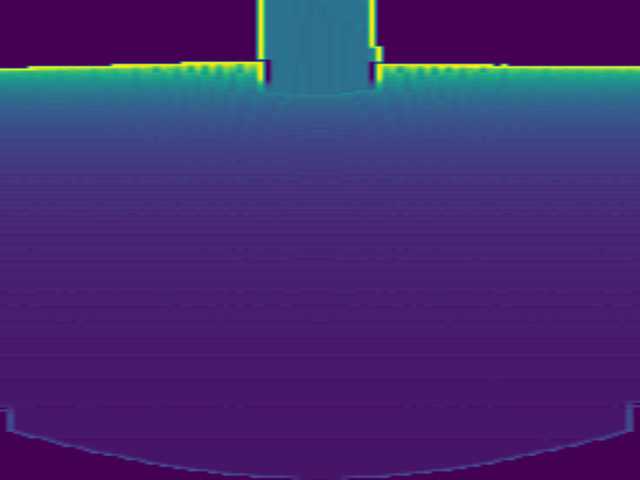cylinder: (254, 1, 382, 96)
